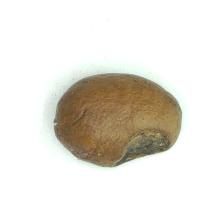NG: (111, 126, 173, 169)
